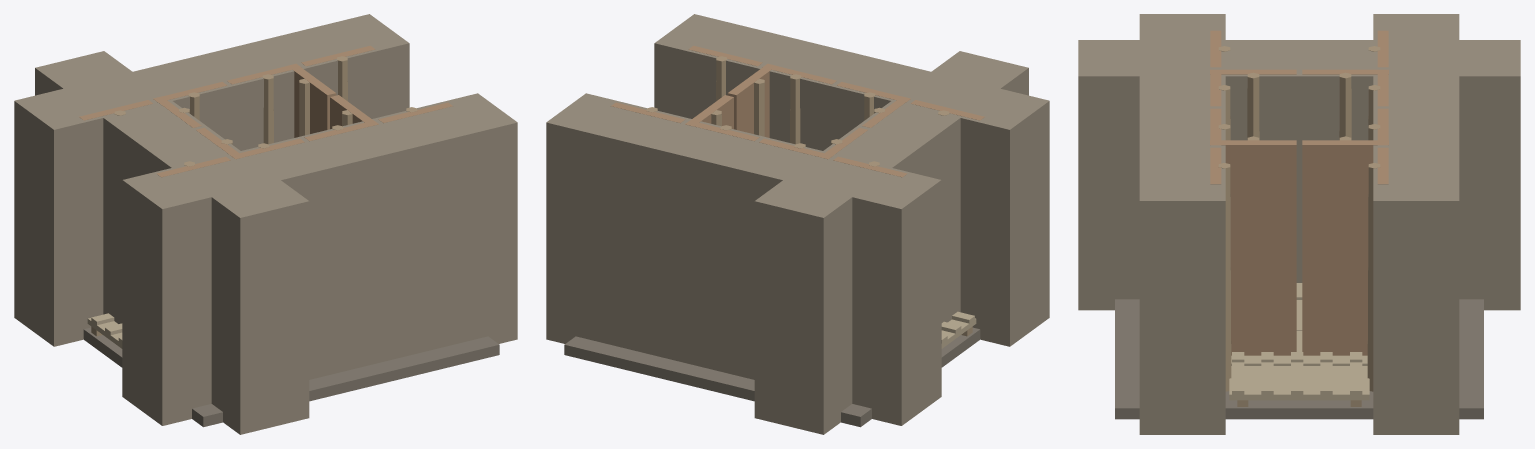
The model's file is trench-line-1917-trench-junction-t-f16d5ed9__24037.glb.
3 renders of one model, left to right at view 1: azimuth 30°, elevation 25°; view 2: azimuth 150°, elevation 25°; view 3: azimuth 270°, elevation 25°, orthographic. The views are drawn at different scales.
Visible parts, largest first — view 1: trench-junction-t; view 2: trench-junction-t; view 3: trench-junction-t.
Boxes of the visible parts, x1,y1,x2,y2 form: trench-junction-t: [14, 14, 517, 434]; trench-junction-t: [546, 14, 1049, 434]; trench-junction-t: [1078, 14, 1520, 434].
Size of the model in its own units: 3.6 by 2.1 by 3.6.
